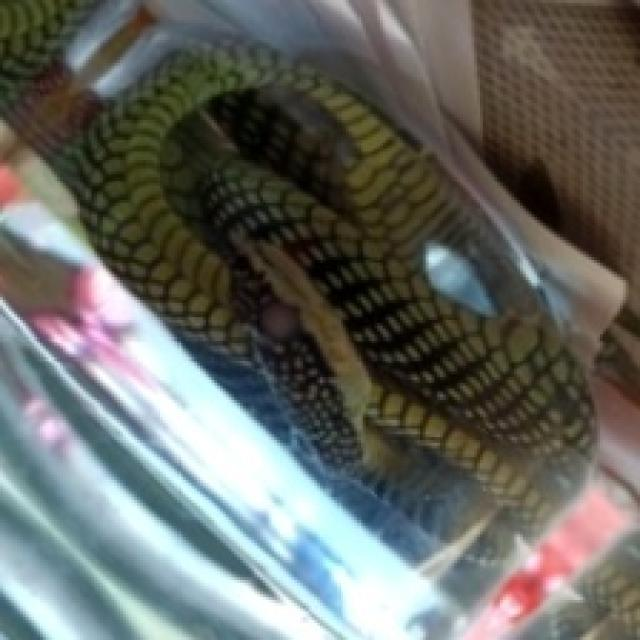paradise tree snake: (0, 0, 623, 569), (0, 254, 129, 497)
